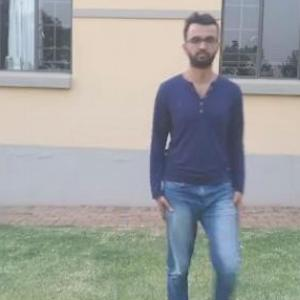follow: (153, 14, 251, 299)
